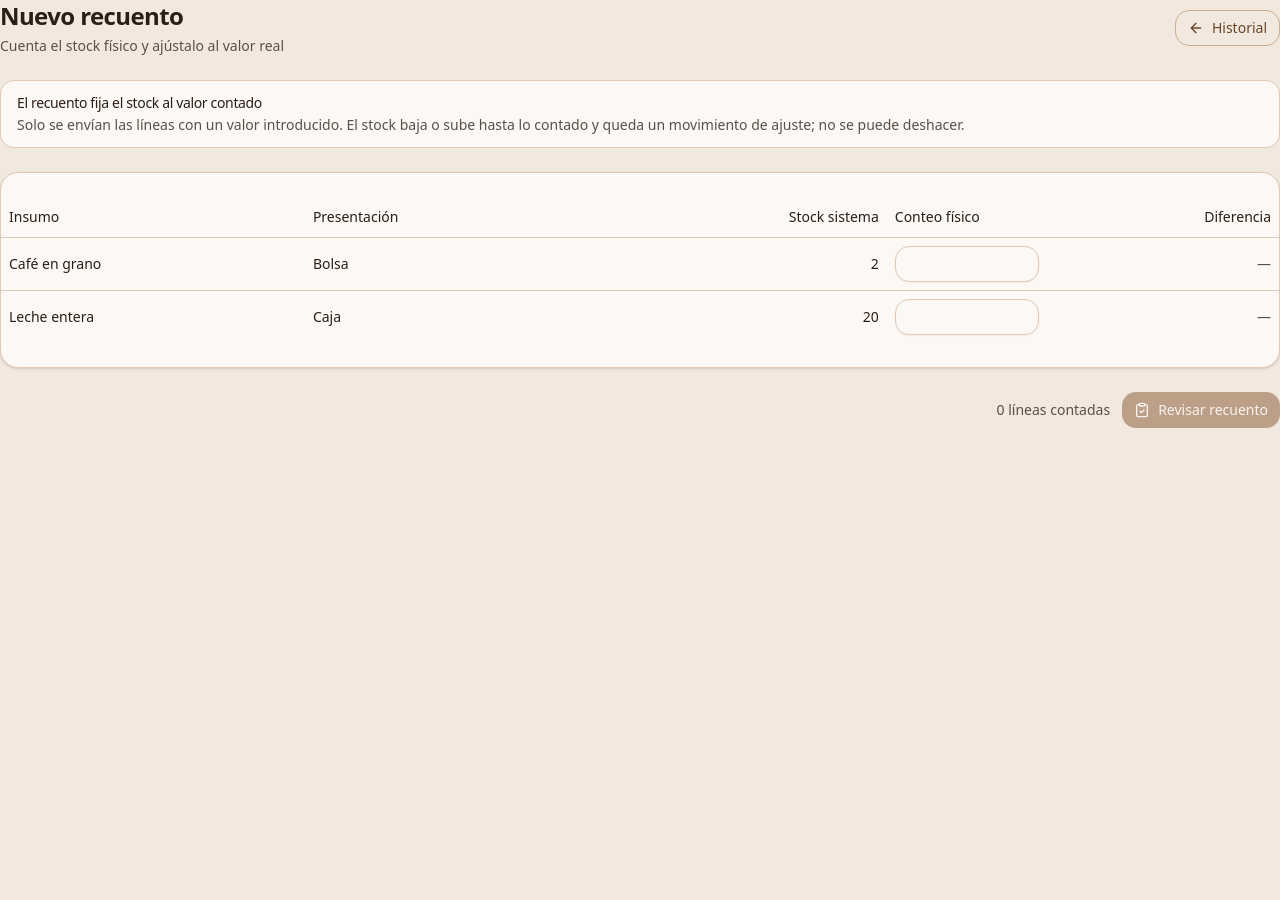
Test case: Nuevo recuento › muestra el mensaje del servidor si el recuento está fuera de alcance
The width and height of the screenshot is (1280, 900).
In the field named "Conteo de Café en grano": (967, 264) [895,246,1039,282], type "4"
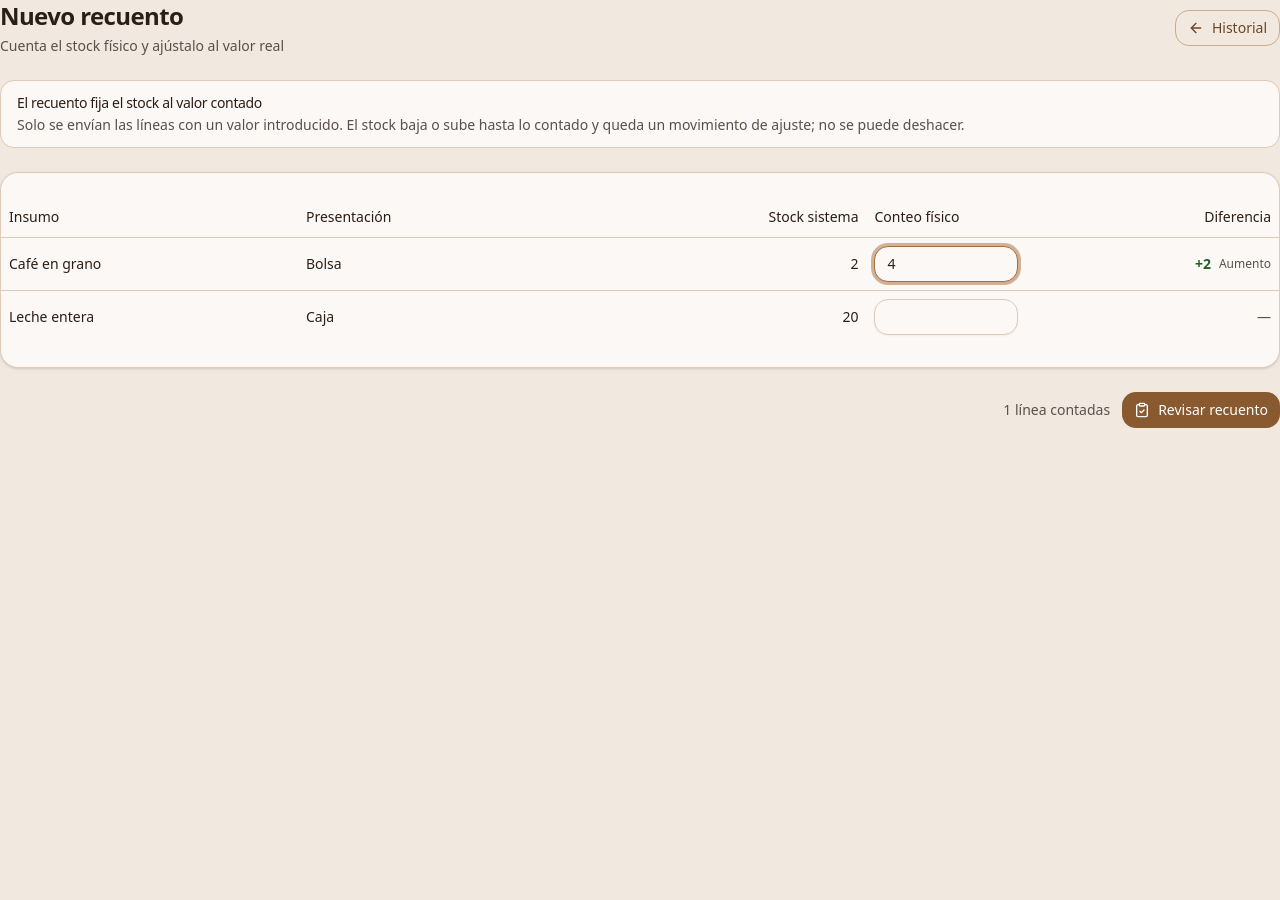
Click the button "Revisar recuento": (1201, 410) [1122,392,1279,428]
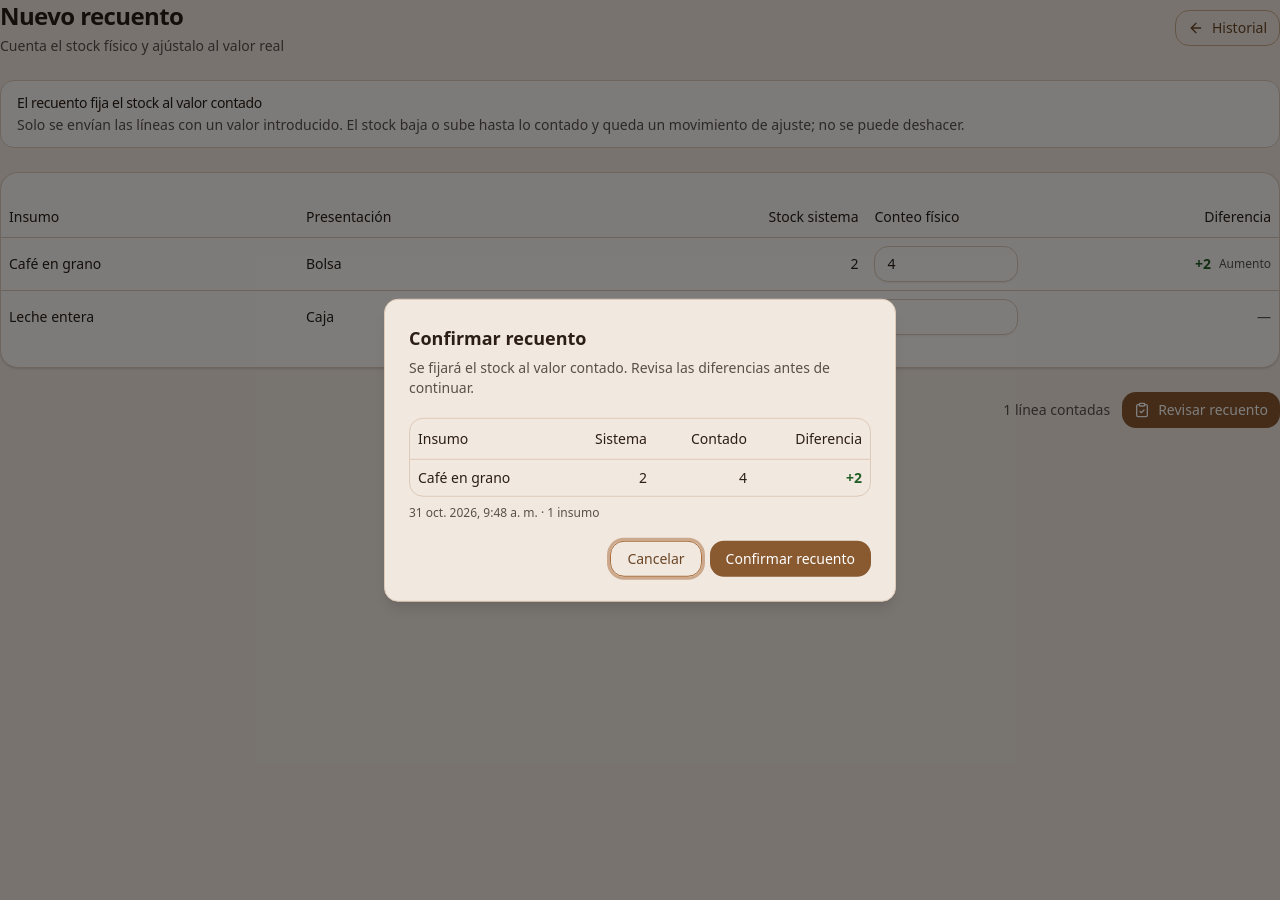
Click the button "Confirmar recuento": (790, 558) [710,540,871,576]
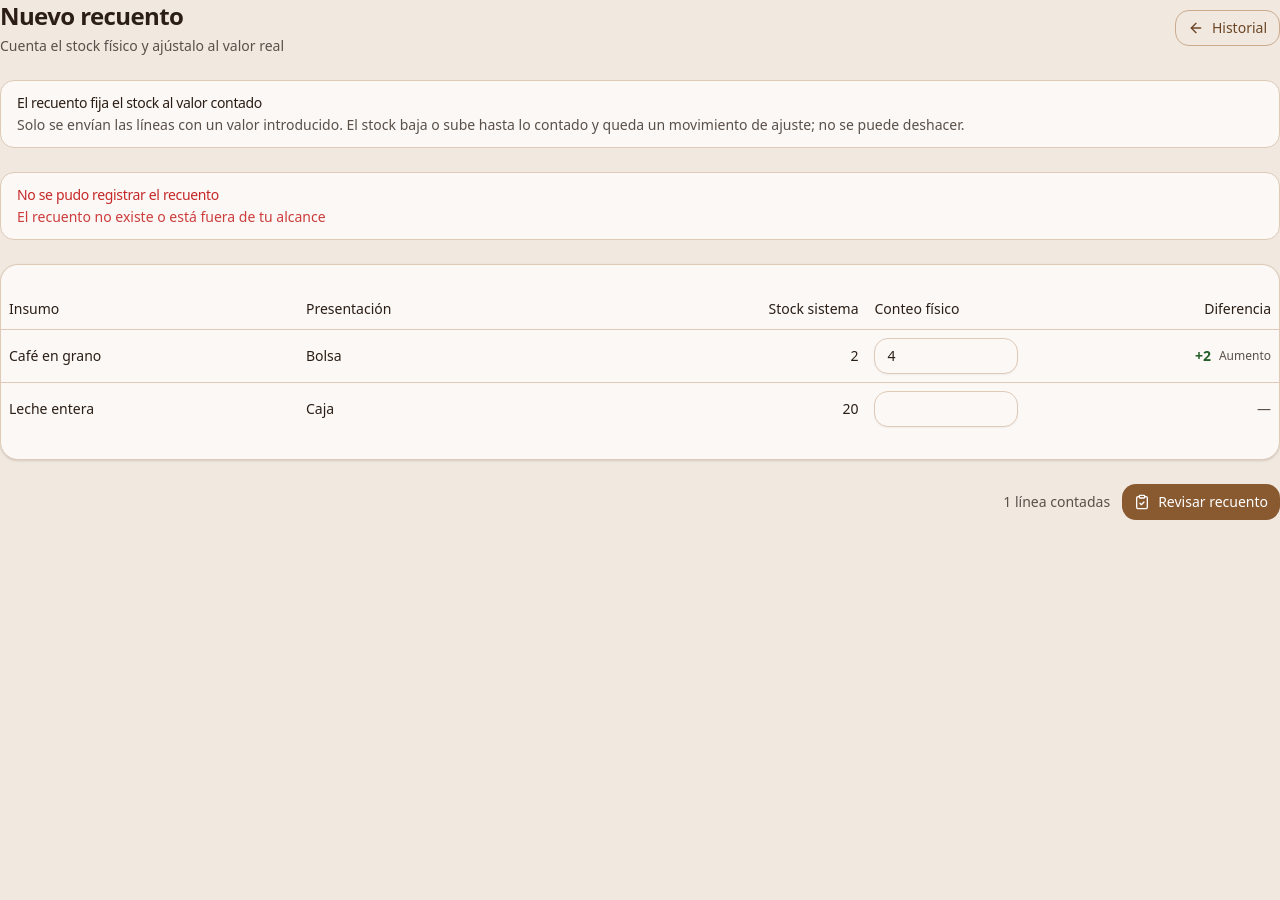
Check: the text "El recuento no existe o está fuera de tu alcance" is shown, box [17,207,326,226]
